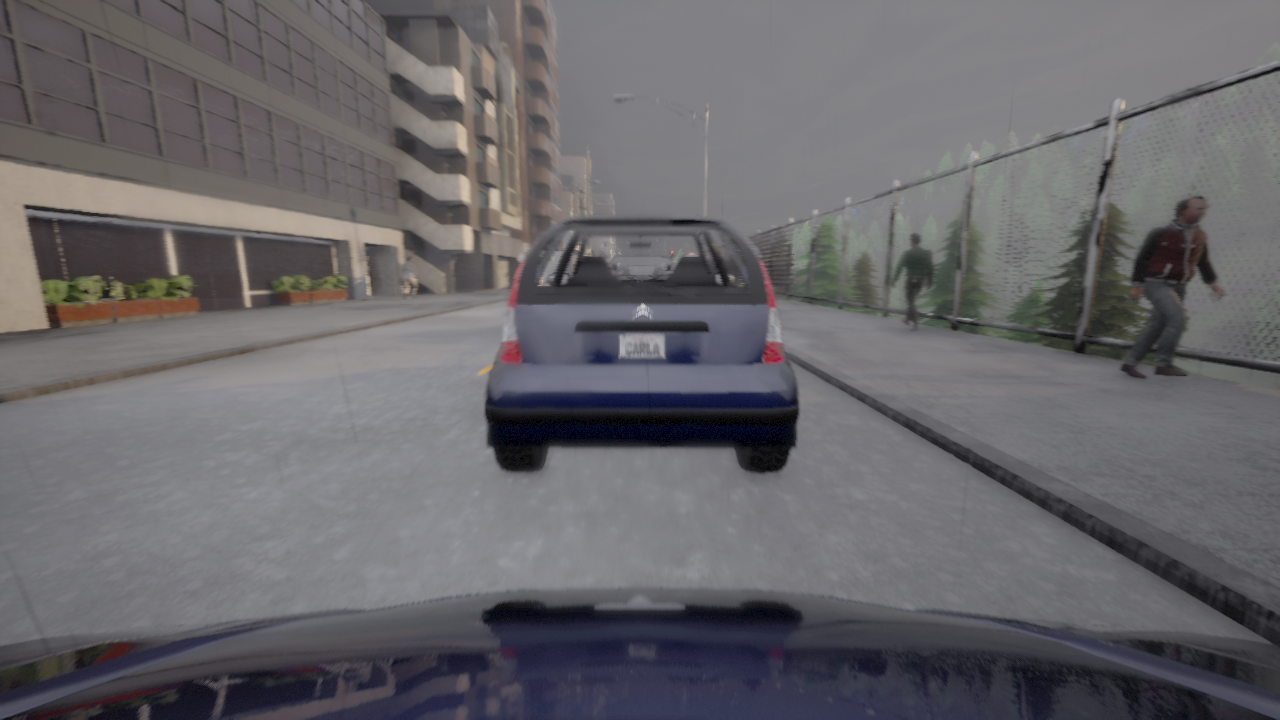cyclist: (0, 588, 1279, 719), (484, 215, 799, 472)
pedestrian: (1119, 195, 1225, 379), (891, 234, 933, 331), (401, 257, 418, 299)
